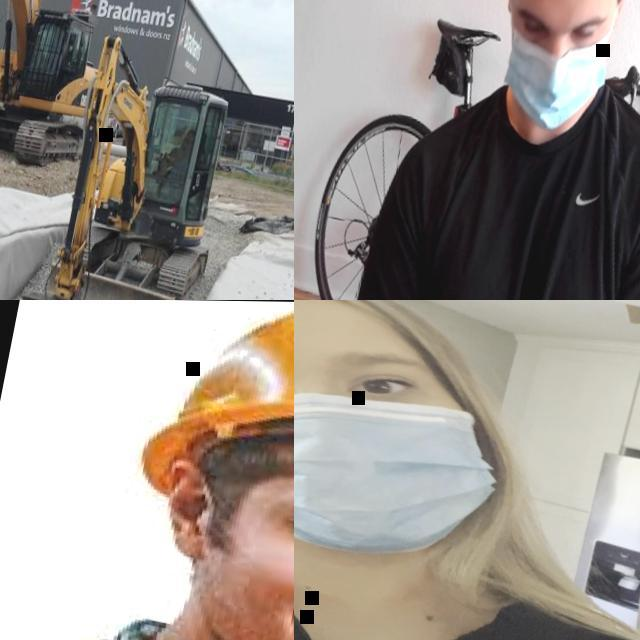helmet: (134, 300, 294, 591)
